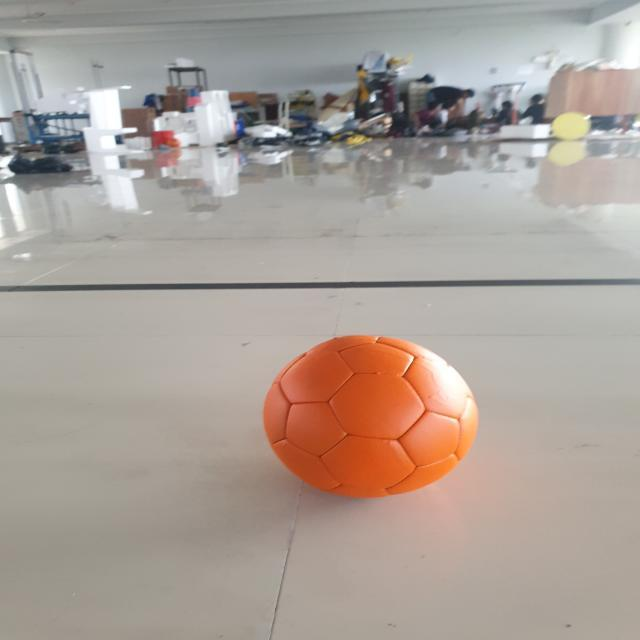bola: (250, 324, 490, 506)
